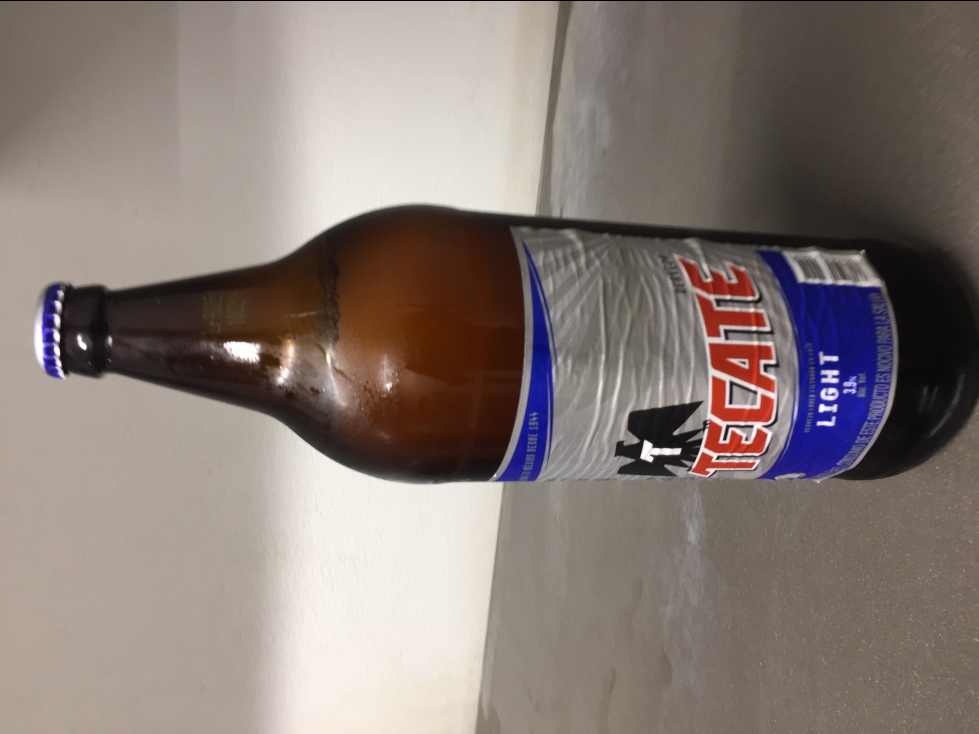tecateC: (21, 204, 979, 492)
